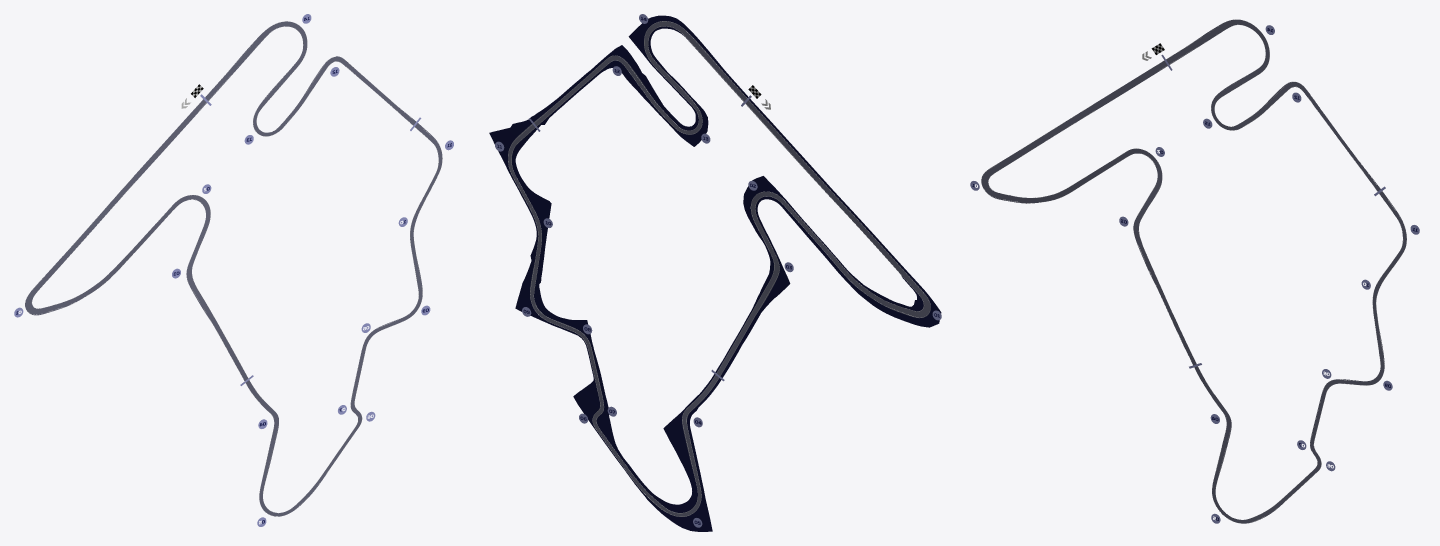
File: hungaroring.glb
3 renders of one model, left to right at view 1: azimuth 30°, elevation 25°; view 2: azimuth 150°, elevation 25°; view 3: azimuth 330°, elevation 25°, orthographic.
Parts seen in each view (by area): view 1: tracklimit, whiteline; view 2: runoff, tracklimit, whiteline; view 3: tracklimit, whiteline.
Boxes of the visible parts, left/top/right/bottom form: tracklimit: left=25, top=21, right=442, bottom=516; whiteline: left=25, top=21, right=442, bottom=516; runoff: left=489, top=15, right=941, bottom=531; tracklimit: left=508, top=21, right=930, bottom=516; whiteline: left=508, top=21, right=930, bottom=516; tracklimit: left=981, top=19, right=1406, bottom=523; whiteline: left=981, top=20, right=1406, bottom=522.
Size of the model in its own units: 1161 by 1260 by 36.01.
